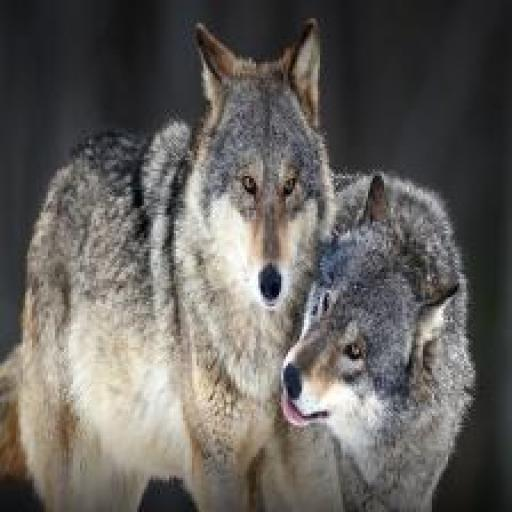wolf: (2, 20, 345, 512), (283, 171, 478, 512)
